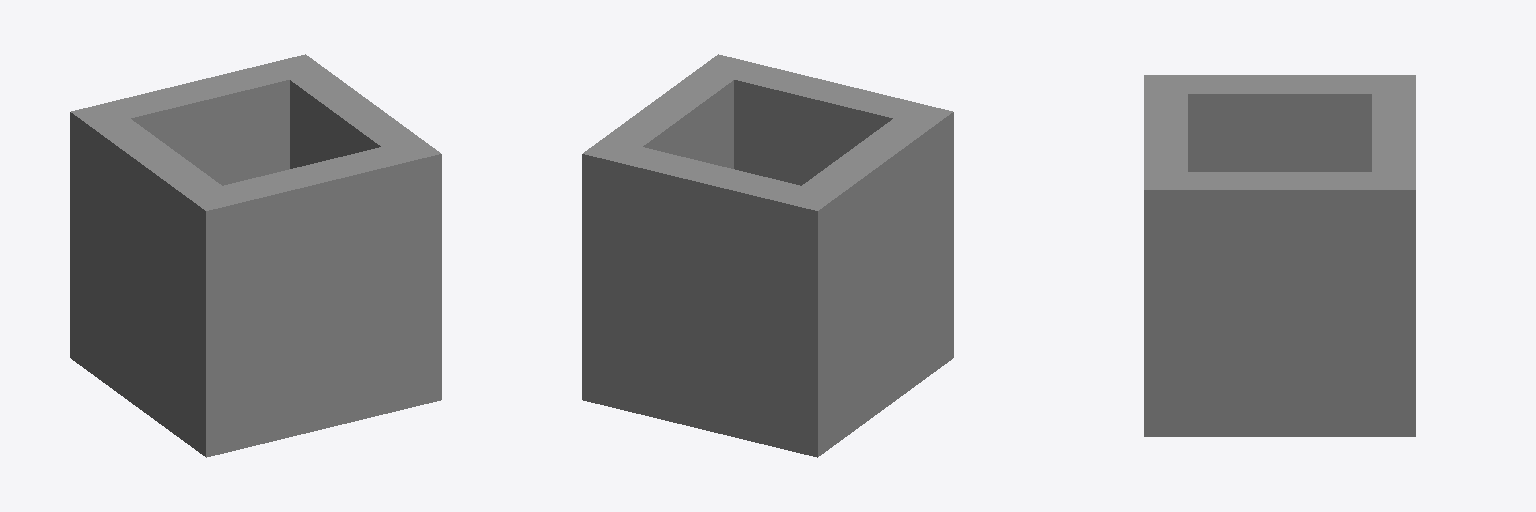
Rendered from pit.obj.
3 views of the same model, side by side, from view 1: azimuth 30°, elevation 25°; view 2: azimuth 150°, elevation 25°; view 3: azimuth 270°, elevation 25° (orthographic).
Parts seen in each view (by area): view 1: Cube_Cube.001; view 2: Cube_Cube.001; view 3: Cube_Cube.001.
Part boxes in pixels (x1,y1,x2,y2): Cube_Cube.001: (70,54,441,457); Cube_Cube.001: (582,54,953,457); Cube_Cube.001: (1144,75,1415,436).
Size of the model in its own units: 2 by 2 by 2.